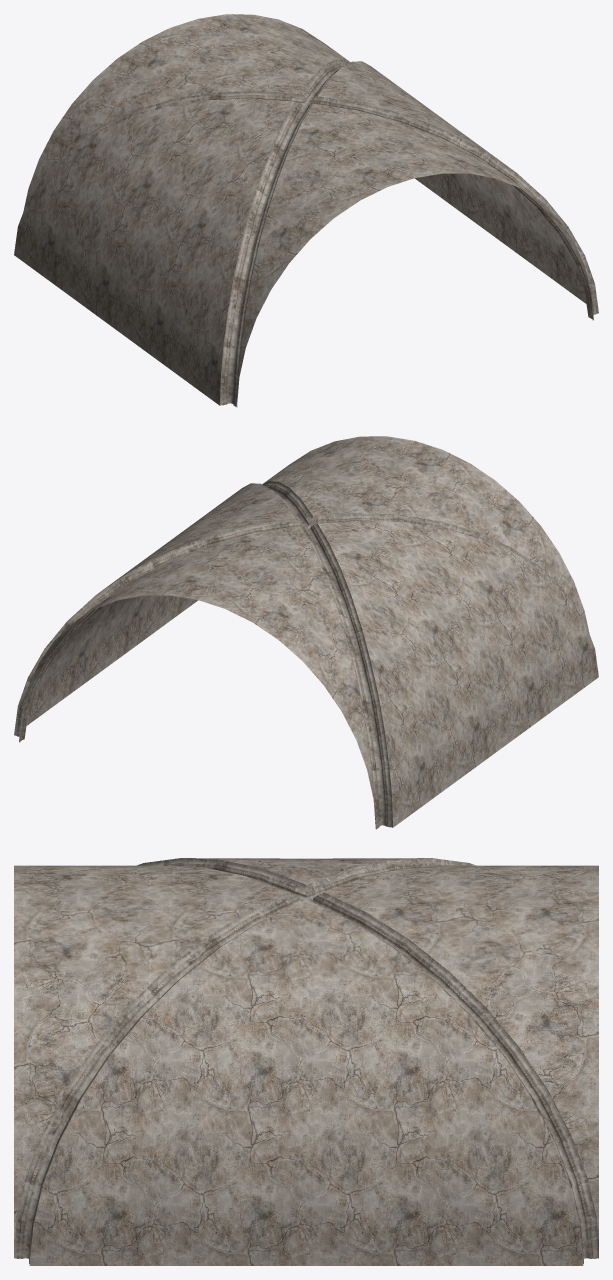
3 renders of one model, top to bottom at view 1: azimuth 30°, elevation 25°; view 2: azimuth 150°, elevation 25°; view 3: azimuth 270°, elevation 25°, orthographic. The views are drawn at different scales.
Visible parts, largest first — view 1: SM_Ceiling03a_LOD0; view 2: SM_Ceiling03a_LOD0; view 3: SM_Ceiling03a_LOD0.
Boxes of the visible parts, x1=… form: SM_Ceiling03a_LOD0: x1=14, y1=14, x2=598, y2=407; SM_Ceiling03a_LOD0: x1=14, y1=436, x2=598, y2=829; SM_Ceiling03a_LOD0: x1=14, y1=858, x2=598, y2=1265.
Size of the model in its own units: 8.05 by 3.77 by 8.
Materials: 2 (2 with a texture image).
